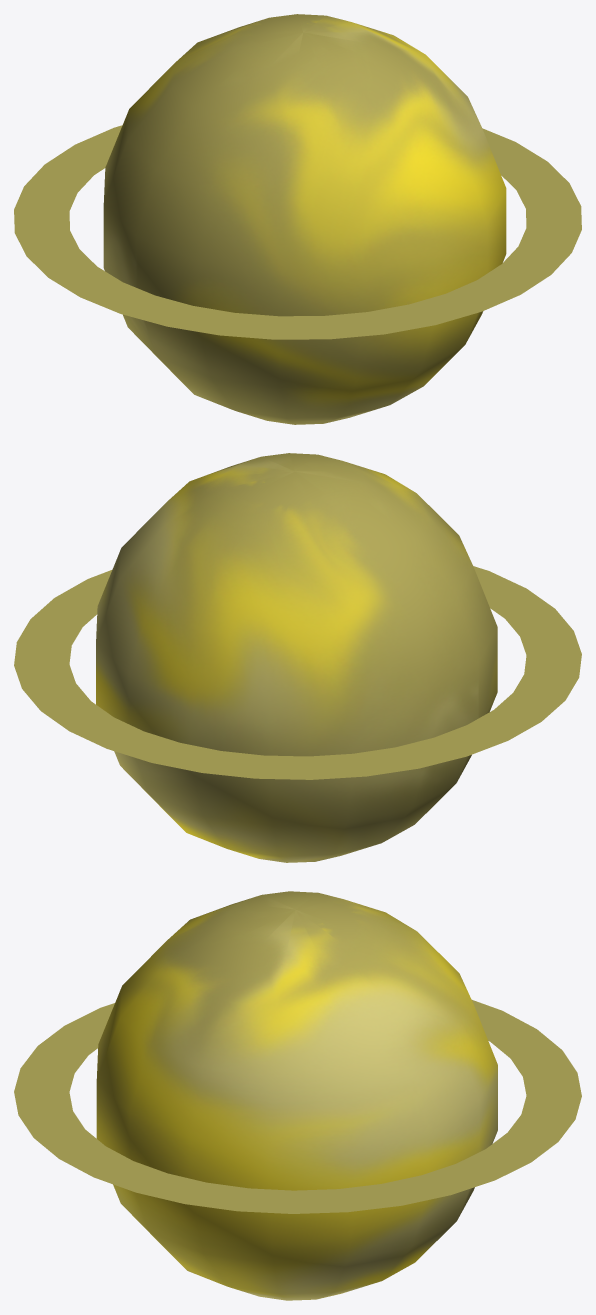
Rendered from ringedplanet.fbx.
The picture shows the model from 3 angles, top to bottom: view 1: azimuth 30°, elevation 25°; view 2: azimuth 150°, elevation 25°; view 3: azimuth 270°, elevation 25°; orthographic projection.
Parts seen in each view (by area): view 1: Sphere.005; view 2: Sphere.005; view 3: Sphere.005.
Part boxes in pixels (bbox=[...]): Sphere.005: bbox=[14, 14, 581, 424]; Sphere.005: bbox=[14, 453, 581, 862]; Sphere.005: bbox=[14, 891, 581, 1300].
Bounding box in the file's own units: 4.27 × 3.09 × 4.27.
